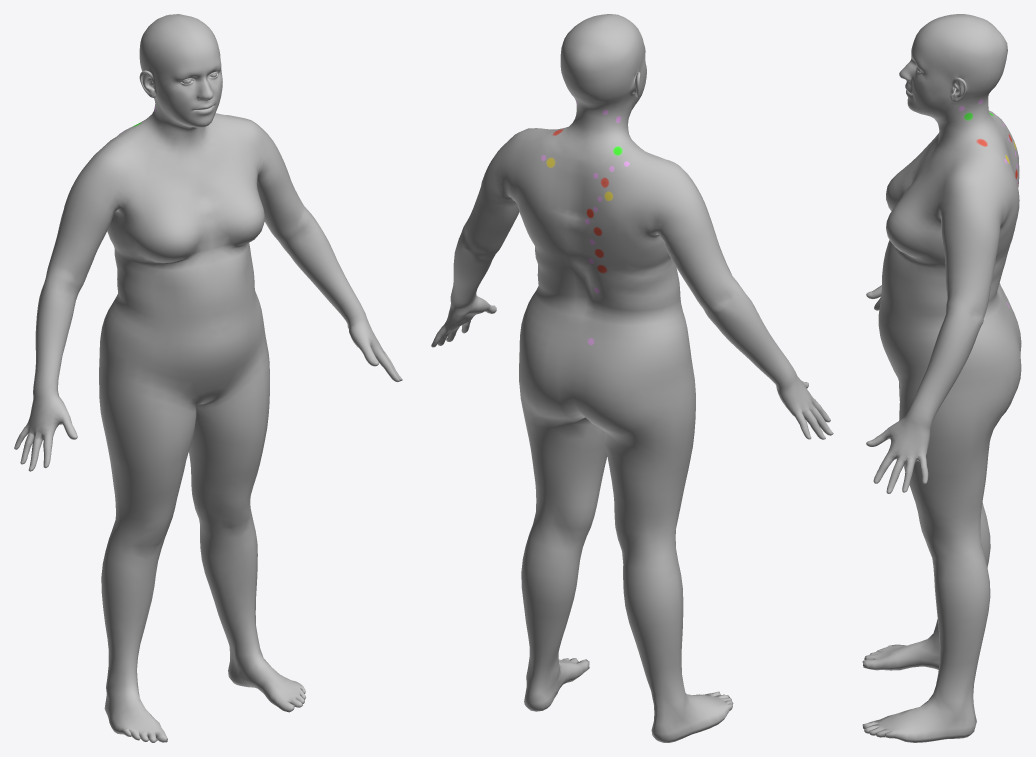
3 views of the same model, side by side, from view 1: azimuth 30°, elevation 25°; view 2: azimuth 150°, elevation 25°; view 3: azimuth 270°, elevation 25° (orthographic). The views are drawn at different scales.
Visible parts, largest first — view 1: Female 62in 150lbs; view 2: Female 62in 150lbs; view 3: Female 62in 150lbs.
Part boxes in pixels (left/top/right/bottom): Female 62in 150lbs: left=14, top=14, right=402, bottom=742; Female 62in 150lbs: left=431, top=14, right=833, bottom=742; Female 62in 150lbs: left=862, top=14, right=1021, bottom=742.
Size of the model in its own units: 2.73 by 4.73 by 0.9921.
1 material, 1 textured.
